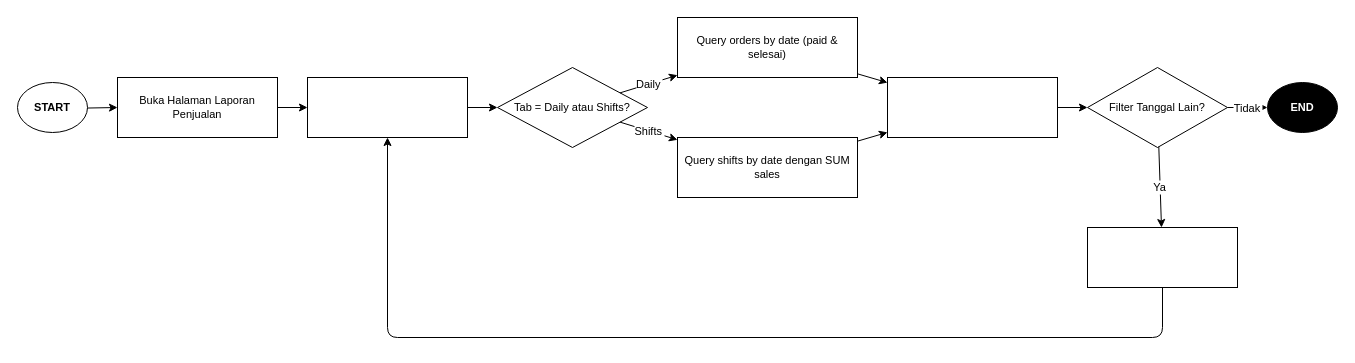
Image size: 1355x363. Some labels were removed from this diagram. Each missing label, with the centre of its shape:
Baca ?tab & ?date dari GET Request: pixel 387 107
Render Tabel Laporan dengan Data: pixel 972 107
Submit Form Filter Tanggal: pixel 1162 257
